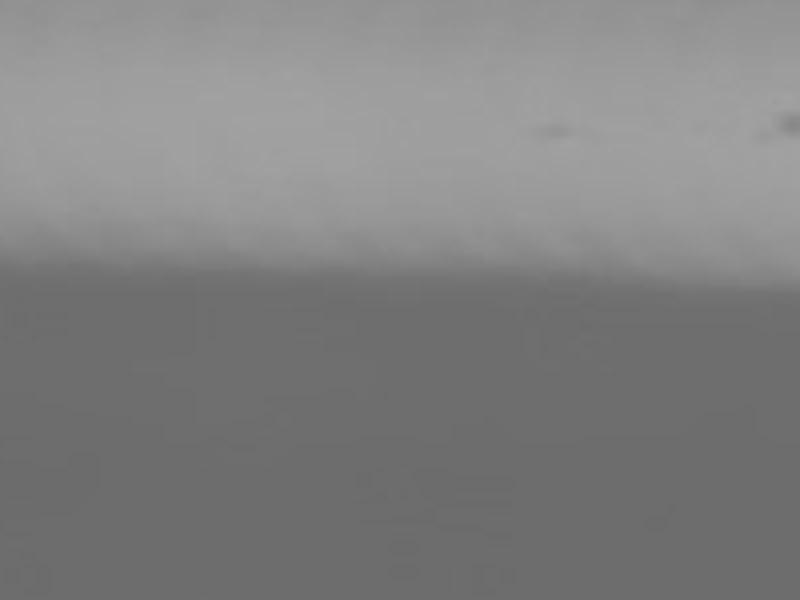defect: (533, 115, 573, 138), (774, 110, 800, 140)
